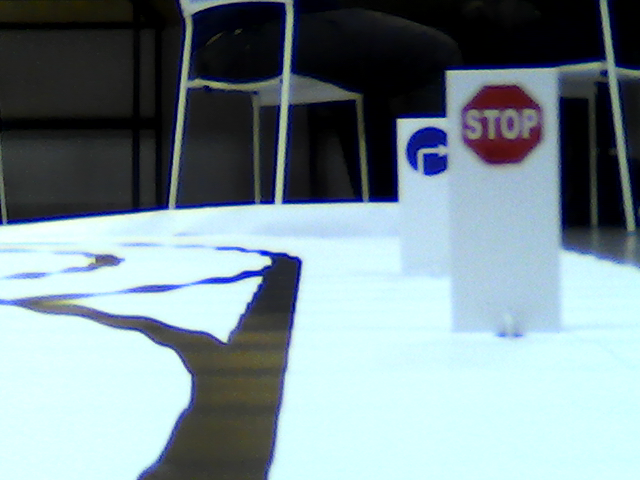Right: (407, 128, 451, 176)
Stop: (461, 81, 542, 164)
